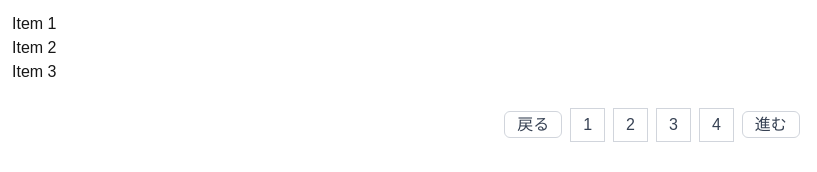
it: PaginatedItems › 次ページに移動すると正しいアイテムが表示される
What coordinates should you click on to do the following:
click the button "進む"
I would click on:
 (771, 124)
Its box is [742,111,800,138].
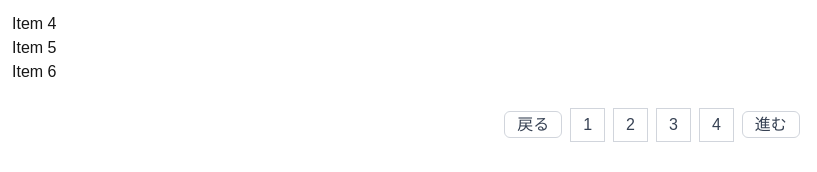
Check: the text "Item 4" is shown, box [12,15,56,32]
Check: the text "Item 1" is gone
